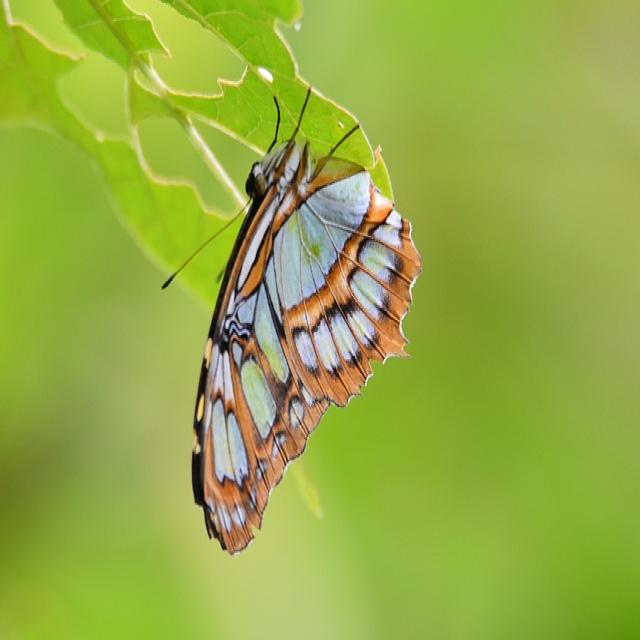butterfly: (194, 141, 422, 556)
